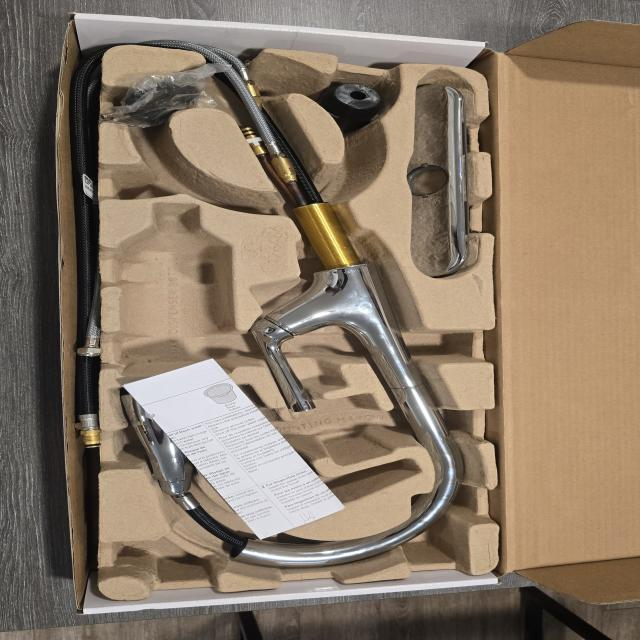1o: (121, 49, 465, 567)
2m: (199, 386, 420, 525)
3m: (118, 203, 232, 384)
4: (409, 83, 469, 278)
5: (312, 83, 380, 132)
6m: (110, 149, 237, 205)
7: (103, 62, 237, 130)
8: (121, 357, 348, 541)
